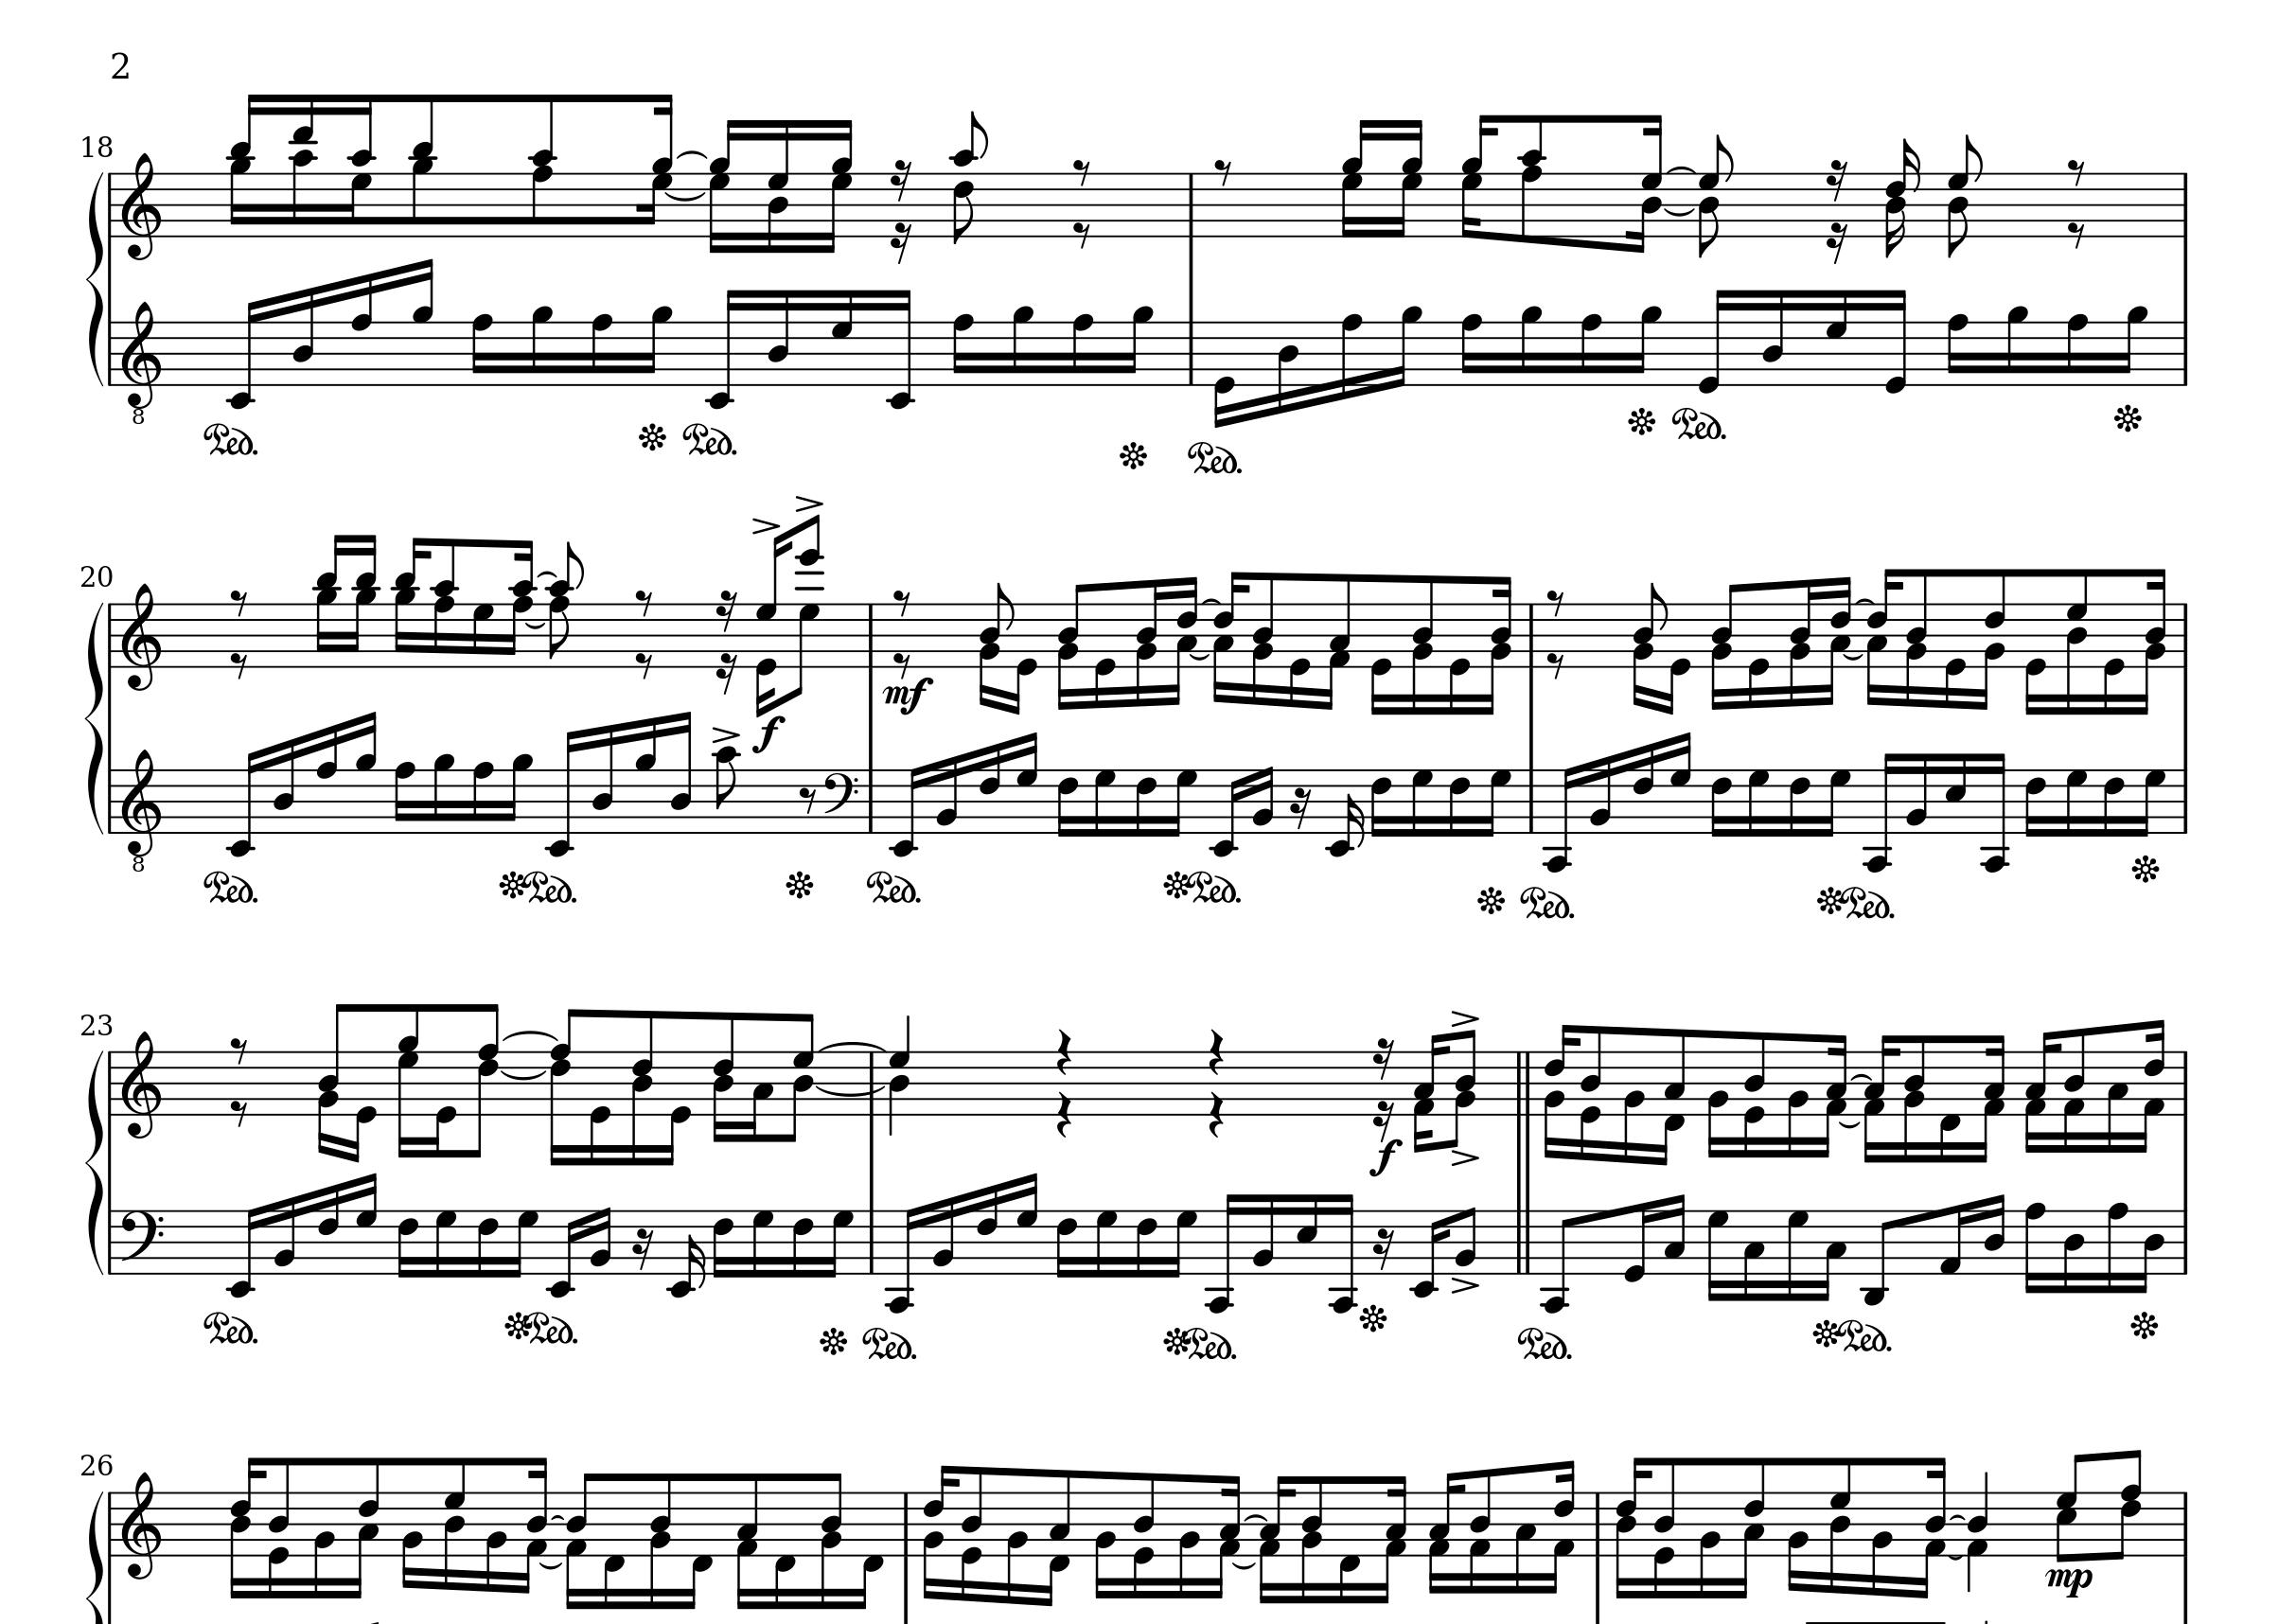0: (95, 562, 112, 589)
1: (79, 132, 93, 158)
16_-1: (685, 1485, 713, 1608), (856, 1489, 884, 1608), (1337, 1487, 1361, 1603), (603, 1485, 625, 1610), (1938, 1044, 1960, 1164), (775, 1485, 796, 1610)
16_-2: (546, 726, 580, 859), (706, 286, 741, 411), (225, 299, 262, 411), (225, 747, 262, 858), (1326, 766, 1363, 858), (1411, 1207, 1448, 1299), (889, 763, 924, 858), (227, 1204, 262, 1299), (668, 1209, 704, 1299), (887, 286, 913, 411), (546, 1207, 580, 1299), (1210, 768, 1242, 856)
16_-4: (1205, 1190, 1240, 1313), (1864, 750, 1897, 872), (885, 1202, 921, 1315), (1328, 1190, 1358, 1315), (1544, 763, 1578, 872), (1980, 752, 2010, 872)
16_0: (1695, 286, 1730, 395), (662, 1048, 690, 1164), (1010, 601, 1038, 715), (348, 1049, 376, 1164), (1664, 601, 1690, 715), (430, 1048, 457, 1158), (1883, 288, 1910, 397), (588, 1048, 611, 1167), (2024, 601, 2047, 715), (1214, 318, 1237, 427), (1093, 599, 1116, 708), (1945, 601, 1967, 710), (1449, 598, 1470, 715), (1621, 1200, 1651, 1283), (1288, 601, 1310, 708), (1370, 599, 1391, 715), (2103, 601, 2124, 715), (1748, 599, 1769, 708)
16_0_7: (754, 533, 787, 719)
16_1: (1938, 1202, 1969, 1276)
16_10_13: (286, 93, 320, 239)
16_1_3: (1258, 1475, 1293, 1605), (1426, 1473, 1462, 1598), (2024, 1030, 2057, 1155), (1864, 1035, 1895, 1165), (1978, 1033, 2008, 1165), (1412, 1035, 1446, 1153), (1379, 1475, 1409, 1605), (1820, 1032, 1850, 1160), (1214, 1475, 1242, 1601)
16_1_4: (1918, 1455, 1946, 1603), (520, 1457, 550, 1596)
16_1_6: (1546, 1459, 1579, 1598), (2138, 1018, 2166, 1153)
16_2: (1005, 1485, 1029, 1606), (1706, 1042, 1730, 1160), (1621, 1044, 1644, 1165), (1785, 1046, 1809, 1158), (483, 1490, 508, 1594), (313, 1490, 336, 1601), (1177, 1487, 1200, 1598), (1869, 1489, 1892, 1598), (1094, 1482, 1116, 1599), (1697, 1490, 1720, 1598), (1787, 1490, 1809, 1592), (401, 1490, 423, 1591), (1586, 754, 1613, 835), (271, 1195, 297, 1274), (1904, 750, 1929, 833), (1251, 1192, 1275, 1274), (935, 754, 959, 835), (931, 1195, 956, 1276), (588, 1204, 613, 1274), (1251, 765, 1275, 833)
16_2_4: (2136, 566, 2168, 715), (1483, 575, 1514, 715), (1788, 580, 1822, 707), (1135, 580, 1166, 707)
16_2_6: (922, 1464, 956, 1601), (1544, 1025, 1574, 1160)
16_3: (1816, 1207, 1846, 1302), (745, 1048, 773, 1142), (1513, 1487, 1537, 1594), (2105, 1048, 2129, 1153), (1741, 1207, 1765, 1302), (1662, 1192, 1686, 1274)
16_3_6: (1866, 568, 1901, 707), (1212, 571, 1247, 705), (1822, 576, 1852, 707), (1170, 576, 1198, 705)
16_4: (669, 710, 692, 837), (590, 722, 615, 833), (290, 285, 316, 387), (1760, 286, 1787, 387), (2136, 1207, 2166, 1294), (766, 286, 791, 387), (1275, 318, 1300, 415), (271, 736, 295, 833), (2061, 1207, 2085, 1294), (1982, 1192, 2006, 1274)
16_4_6: (1614, 1457, 1650, 1601), (228, 1457, 264, 1598), (1885, 137, 1922, 255)
16_4_7: (1628, 112, 1665, 253), (766, 118, 792, 255)
16_5: (1295, 1192, 1319, 1274), (1945, 752, 1969, 833)
16_6: (978, 740, 1003, 833), (316, 1183, 341, 1276), (1632, 742, 1657, 833), (975, 1183, 1000, 1274), (1133, 766, 1158, 838), (395, 1207, 420, 1280), (1054, 1207, 1079, 1280), (1133, 1207, 1158, 1278), (1056, 766, 1079, 838), (1448, 766, 1470, 838), (1709, 766, 1732, 838), (2024, 766, 2047, 838), (711, 1207, 734, 1280), (791, 1207, 813, 1280), (1788, 766, 1811, 837), (2103, 766, 2126, 837), (476, 1207, 499, 1278), (1370, 766, 1391, 838)
16_7: (395, 1049, 420, 1158), (1015, 1171, 1040, 1276), (1015, 729, 1040, 833), (1825, 286, 1850, 388), (829, 286, 854, 387), (1785, 1206, 1809, 1304), (1669, 729, 1692, 833), (355, 1171, 378, 1274), (1820, 766, 1852, 838), (1166, 768, 1198, 838), (508, 1207, 539, 1278), (1166, 1207, 1198, 1278), (1706, 1207, 1729, 1302), (1481, 768, 1511, 838), (2136, 766, 2166, 837), (824, 1207, 854, 1278), (432, 1207, 457, 1281), (750, 1207, 775, 1281), (1091, 766, 1116, 838), (1409, 766, 1433, 838), (1744, 766, 1769, 838), (2062, 766, 2087, 838), (1093, 1207, 1117, 1280), (471, 601, 495, 670)
16_7_10: (346, 93, 376, 241)
16_7_9: (638, 91, 676, 239), (706, 116, 740, 255), (1462, 114, 1498, 239), (824, 118, 852, 255), (1339, 118, 1370, 239), (1395, 118, 1423, 239)
16_8: (350, 271, 374, 387), (314, 724, 339, 833), (2022, 1199, 2047, 1295), (2105, 1200, 2129, 1295), (1339, 311, 1363, 401), (469, 313, 494, 387), (590, 313, 615, 387), (950, 313, 975, 387), (1070, 313, 1094, 387), (1458, 313, 1483, 387), (1579, 313, 1604, 387), (1945, 313, 1969, 387), (393, 759, 416, 835), (471, 759, 494, 835), (2066, 313, 2089, 387)
16_8_10: (506, 538, 539, 670)
16_8_11: (227, 93, 264, 239)
16_9: (353, 710, 378, 835), (411, 258, 434, 388), (634, 715, 657, 833), (639, 304, 671, 388), (1121, 304, 1152, 388), (1630, 304, 1662, 388), (2115, 304, 2147, 387), (1391, 304, 1421, 388), (502, 750, 532, 833), (529, 302, 553, 387), (1518, 302, 1542, 387), (2004, 302, 2029, 387), (430, 752, 455, 835), (1010, 302, 1033, 387)
16_9_11: (393, 538, 430, 670), (313, 534, 346, 668), (350, 534, 379, 670)
2: (107, 49, 130, 79), (77, 1450, 97, 1476), (77, 562, 97, 587), (79, 1011, 97, 1037)
3: (97, 1011, 114, 1035)
4_1_4: (1964, 1471, 1990, 1592)
4_4_7: (887, 1016, 912, 1135)
6: (97, 1450, 114, 1476)
8: (95, 132, 114, 158)
8_-3: (1860, 1209, 1892, 1308)
8_-4: (1541, 1204, 1572, 1313)
8_10: (713, 745, 741, 835)
8_2: (1453, 1204, 1477, 1274)
8_2_4: (1451, 1030, 1477, 1148)
8_4_7: (1697, 134, 1736, 257), (1946, 134, 1983, 257), (785, 1012, 815, 1144)
8_5_7: (2055, 1454, 2087, 1564)
8_6_10: (950, 109, 991, 244)
8_6_8: (471, 1002, 499, 1160), (2113, 1450, 2143, 1561)
8_7_14: (794, 513, 822, 700)
8_8_10: (545, 540, 585, 670), (531, 90, 555, 239), (1520, 114, 1546, 244)
8_9_11: (411, 93, 437, 239)
Accent_above: (792, 492, 824, 511), (750, 515, 782, 534), (1449, 1274, 1481, 1294), (711, 724, 741, 743), (1449, 1148, 1481, 1165), (1449, 1007, 1479, 1025)
Brace: (83, 599, 105, 835), (84, 1048, 105, 1276), (84, 167, 105, 388)
Double_barline: (1513, 1209, 1535, 1272), (1513, 1051, 1534, 1114)
Fclef: (118, 1207, 163, 1276), (822, 766, 861, 833)
Gclef: (119, 1028, 163, 1141), (119, 582, 163, 692), (119, 151, 162, 262), (119, 1469, 162, 1580)
Lower_Gclef: (119, 299, 163, 425), (119, 747, 163, 872)
Rests16: (889, 156, 913, 202), (1825, 156, 1850, 202), (715, 587, 740, 633), (715, 649, 740, 694), (631, 1225, 655, 1271), (889, 220, 913, 264), (1825, 220, 1850, 264), (1289, 784, 1312, 830), (1372, 1225, 1395, 1271), (1372, 1037, 1395, 1079), (1372, 1097, 1395, 1135)
Rests4: (1205, 1090, 1226, 1139), (1054, 1090, 1073, 1141), (1056, 1026, 1073, 1076), (1207, 1026, 1224, 1076)
Rests8: (632, 585, 655, 617), (632, 649, 655, 680), (891, 585, 913, 617), (1212, 156, 1235, 186), (228, 650, 251, 680), (1072, 155, 1093, 186), (2066, 155, 2087, 186), (228, 585, 249, 617), (228, 1032, 249, 1063), (1072, 220, 1093, 250), (2066, 220, 2087, 250), (891, 649, 912, 678), (1546, 587, 1567, 617), (1546, 650, 1567, 680), (798, 784, 817, 816), (228, 1098, 249, 1127)
Single_barline: (1180, 174, 1200, 236), (2177, 322, 2194, 385), (1182, 322, 1200, 385), (1523, 768, 1541, 831), (864, 1053, 882, 1114), (1590, 1490, 1606, 1555), (2177, 1490, 2192, 1555), (864, 1209, 880, 1272), (2177, 1209, 2192, 1272), (2177, 174, 2192, 236), (2177, 770, 2192, 831), (898, 1492, 913, 1554), (104, 172, 118, 237), (104, 322, 118, 385), (104, 603, 118, 666), (2178, 605, 2192, 668), (863, 768, 877, 831), (104, 1051, 118, 1114), (2178, 1051, 2192, 1114), (104, 1492, 118, 1555), (863, 605, 877, 666), (1523, 605, 1537, 666), (104, 770, 118, 831), (105, 1209, 118, 1272)
Slur: (666, 190, 704, 232), (812, 1084, 889, 1097), (815, 1039, 887, 1051), (502, 1028, 559, 1042), (497, 1067, 550, 1079), (1662, 204, 1697, 216), (1665, 163, 1697, 176), (523, 617, 550, 629), (1946, 1533, 1967, 1547), (676, 149, 710, 158), (534, 569, 560, 580), (1839, 650, 1866, 661), (538, 1557, 564, 1568), (1836, 1118, 1862, 1127), (1242, 1512, 1268, 1520), (1230, 1559, 1256, 1568), (1943, 1550, 1967, 1559), (1853, 596, 1876, 605), (1200, 596, 1223, 605), (1188, 650, 1210, 659), (1848, 1072, 1874, 1079), (1946, 1512, 1967, 1520), (548, 1512, 567, 1520)
f: (1367, 1135, 1402, 1176), (752, 714, 785, 752)
mf: (882, 675, 935, 715)
mp: (2043, 1564, 2094, 1598)
